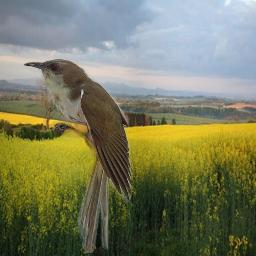Cuckoo: (23, 57, 131, 253)
